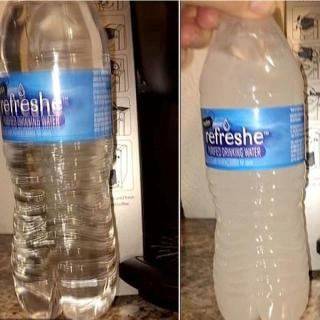Plastic-bottle: (1, 1, 123, 320), (196, 1, 315, 320)
